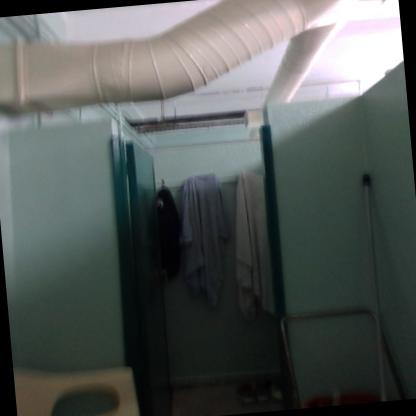open: (92, 93, 306, 414)
